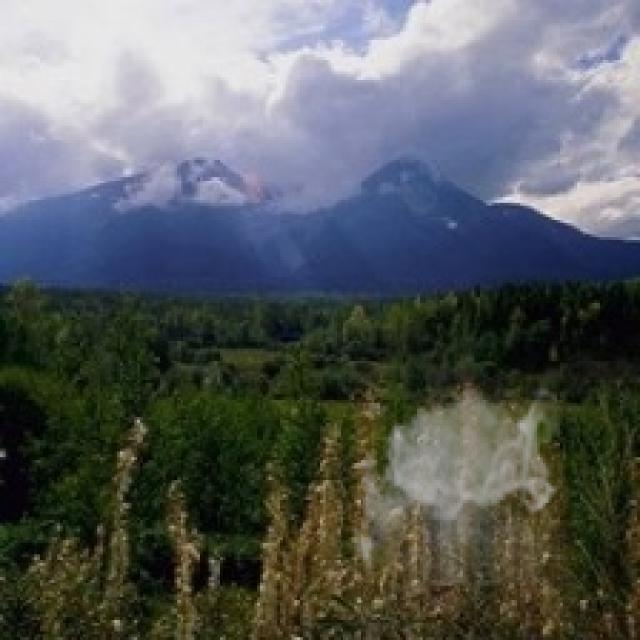Smoke: (346, 377, 558, 586)
